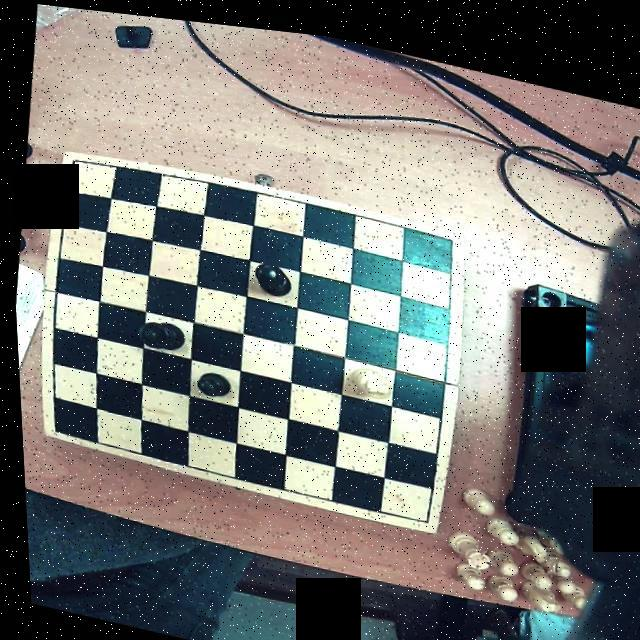chess-table-corners: (432, 220, 460, 246), (410, 496, 435, 522), (38, 418, 68, 438), (60, 150, 84, 172)
